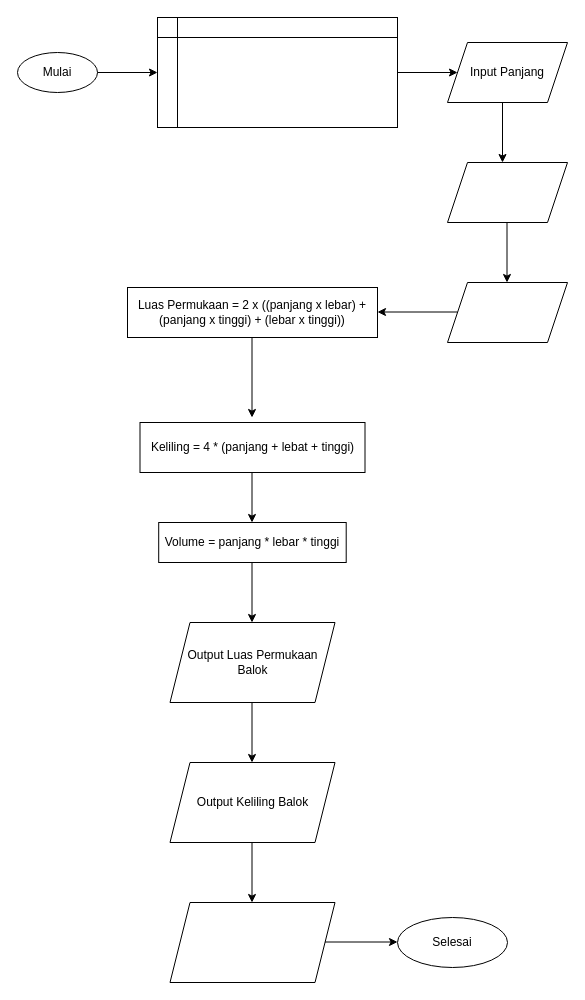
Image size: 585x1000. Some labels were removed from this diagram. Here are the shapes that lost their labels. From the top down, the box of each, then its label:
(156, 16, 398, 128): Float Panjang,Lebar,Tinggi Luas Permukaan,Keliling,Volume
(446, 162, 568, 222): Input Lebar
(446, 282, 568, 342): Input Tinggi
(169, 902, 335, 982): Output Volume
